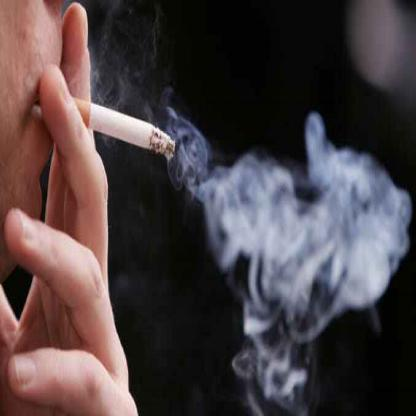smoking: (42, 95, 176, 160)
